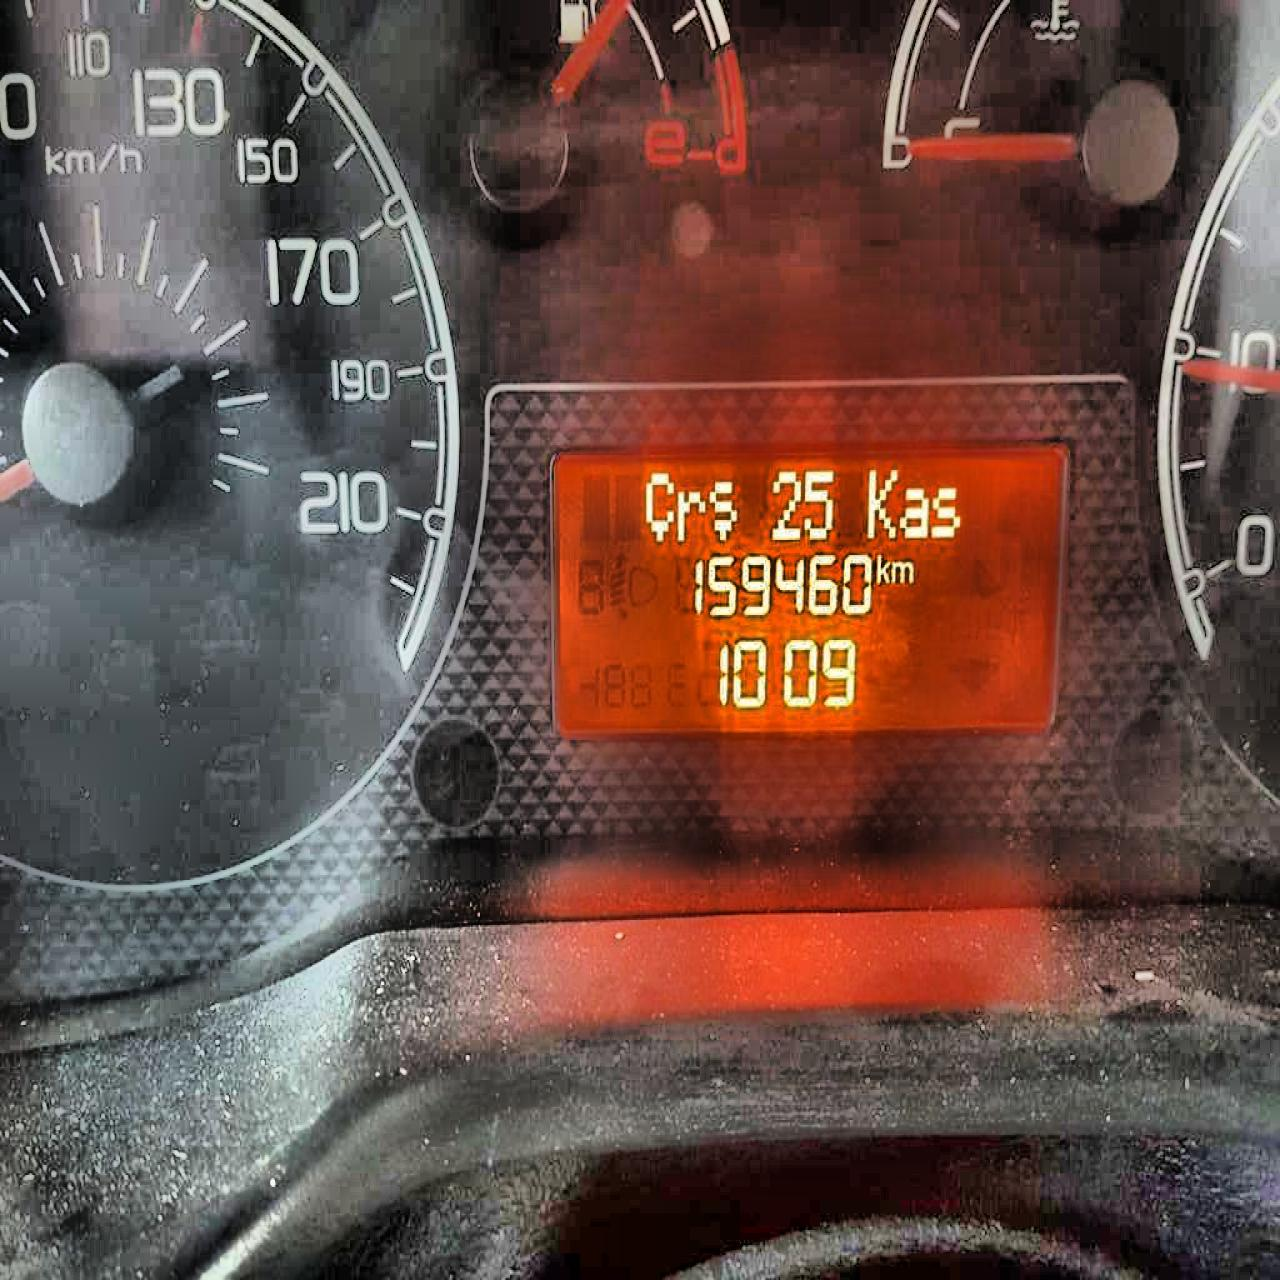0: (781, 636, 818, 707), (730, 639, 765, 708), (839, 552, 872, 613)
1: (716, 641, 729, 707), (692, 558, 703, 614)
2: (769, 468, 802, 539)
4: (774, 557, 804, 612)
5: (801, 468, 835, 539), (706, 553, 736, 614)
6: (806, 552, 837, 615)
9: (821, 639, 855, 707), (740, 553, 770, 617)
X: (642, 470, 674, 543), (865, 467, 897, 538), (707, 478, 737, 539), (928, 485, 961, 538), (898, 486, 928, 538), (675, 489, 704, 542), (890, 558, 914, 584), (874, 552, 890, 584)
odometer: (553, 450, 1061, 738)
